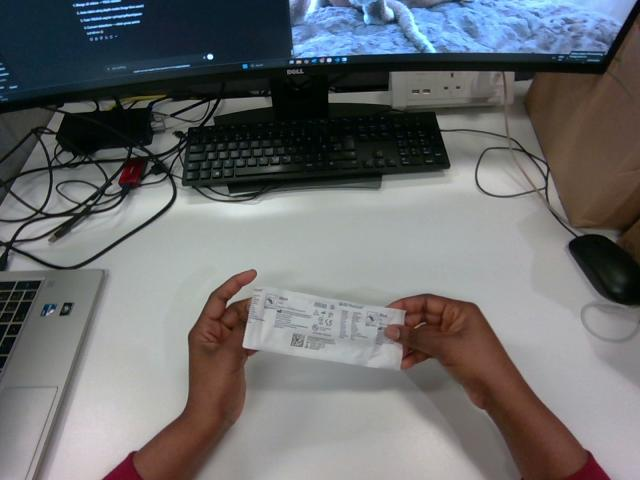syringe: (243, 287, 404, 369)
